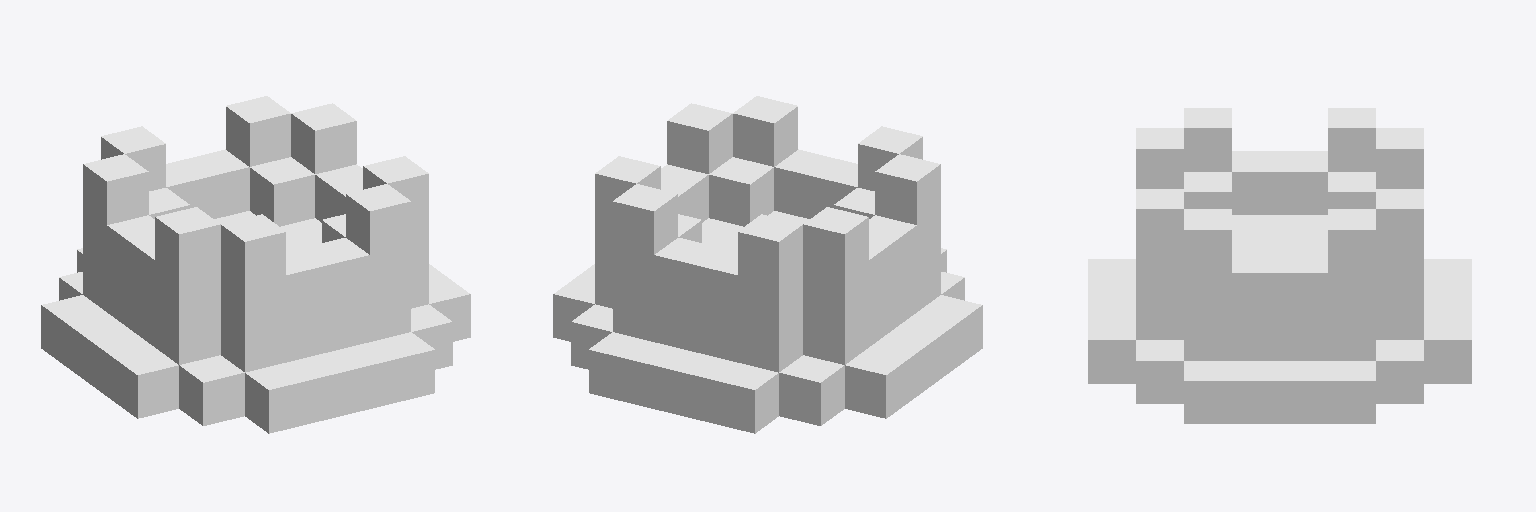
Rendered from BoomTowerBase.obj.
3 renders of one model, left to right at view 1: azimuth 30°, elevation 25°; view 2: azimuth 150°, elevation 25°; view 3: azimuth 270°, elevation 25°, orthographic.
Visible parts, largest first — view 1: object 1; view 2: object 1; view 3: object 1.
Part boxes in pixels (bbox=[...]): object 1: bbox=[41, 96, 470, 433]; object 1: bbox=[553, 96, 982, 433]; object 1: bbox=[1088, 108, 1471, 423].
Bounding box in the file's own units: 0.8 × 0.4 × 0.8.